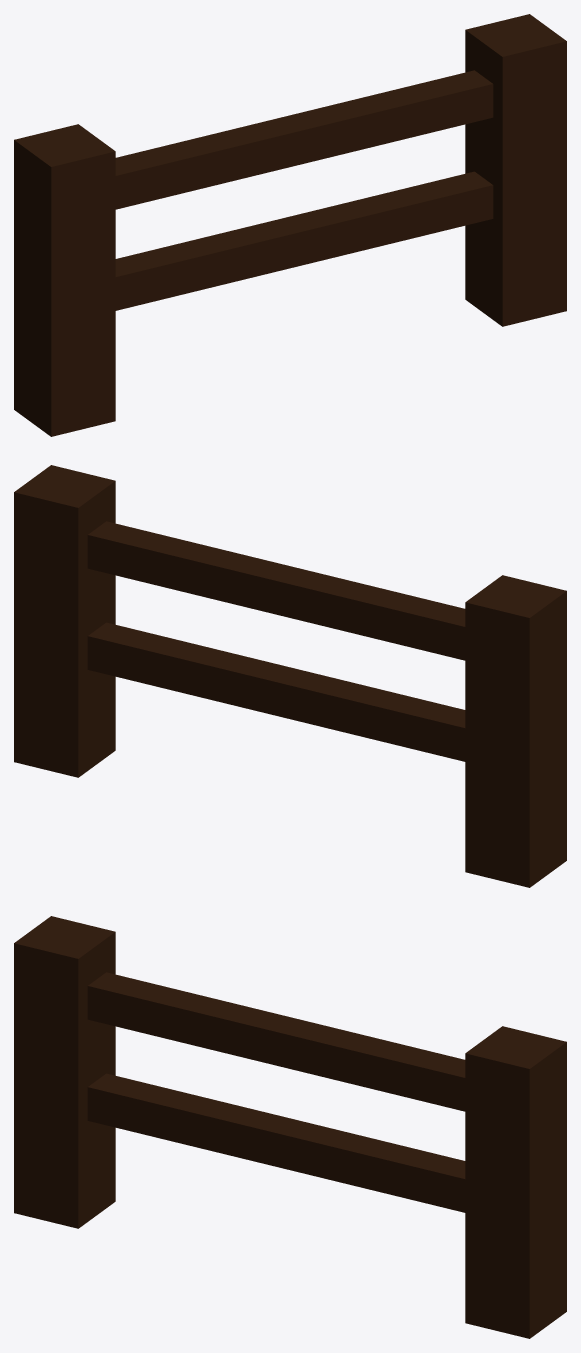
Rendered from simple_fence.obj.
3 views of the same model, one above another, from view 1: azimuth 30°, elevation 25°; view 2: azimuth 150°, elevation 25°; view 3: azimuth 330°, elevation 25° (orthographic).
Size of the model in its own units: 3.2 by 1.6 by 0.4.
Materials: 1 (1 with a texture image).
